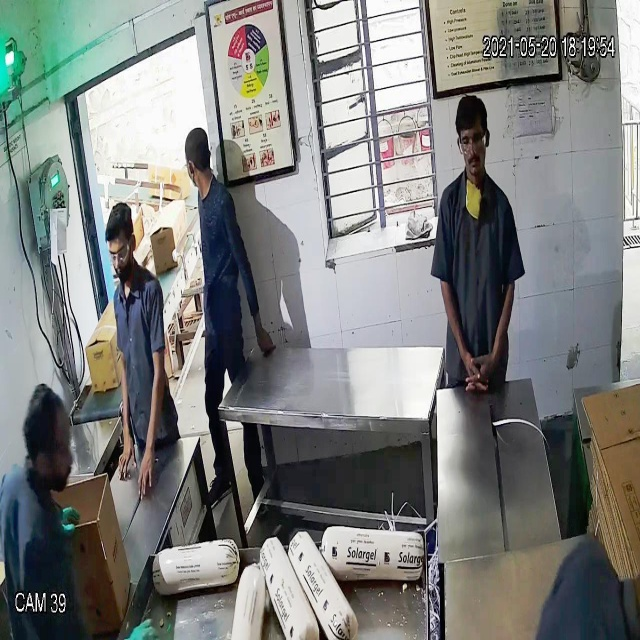Gafas: (456, 129, 488, 156), (105, 241, 131, 268)
